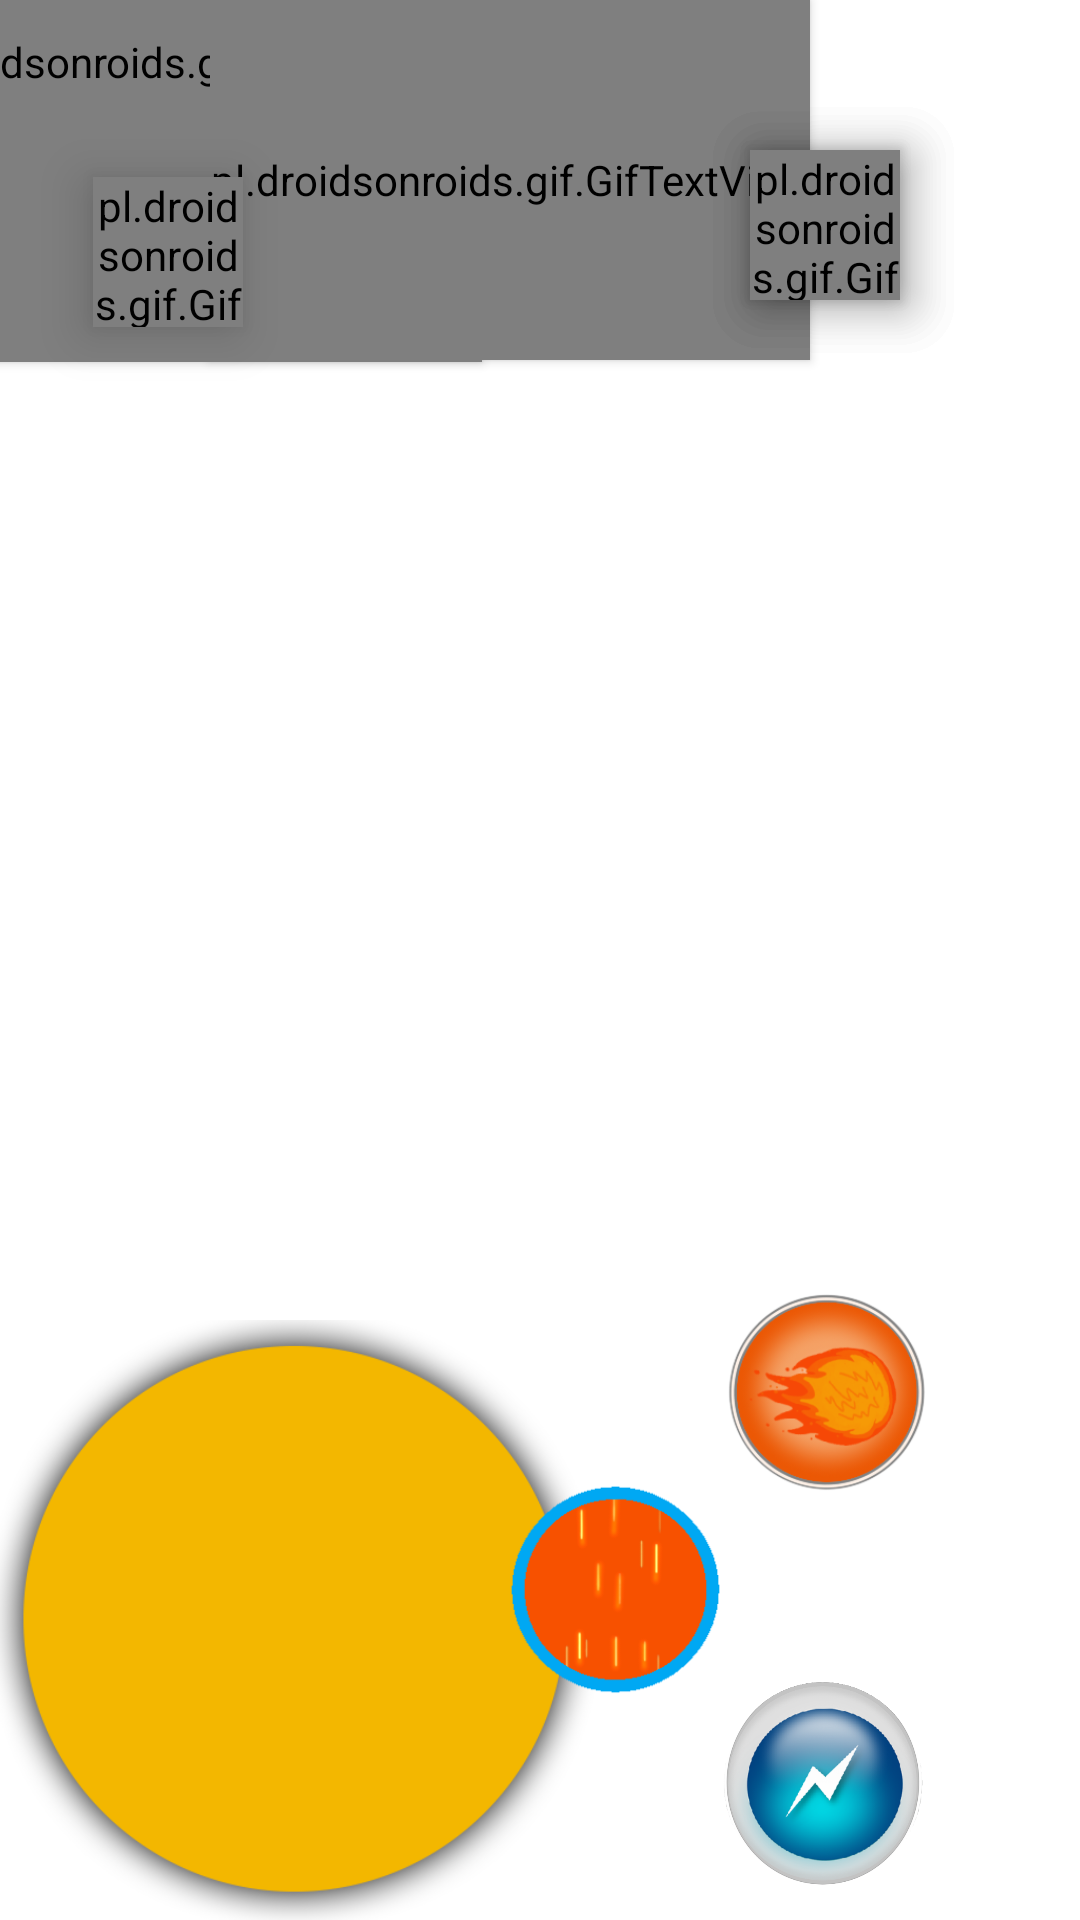

Named icons in this screenshot (1080px x 1920px) and their centers, [x,y]:
aura: [615,1590]
fireballbutton: [827,1392]
lightningbutton: [824,1783]
